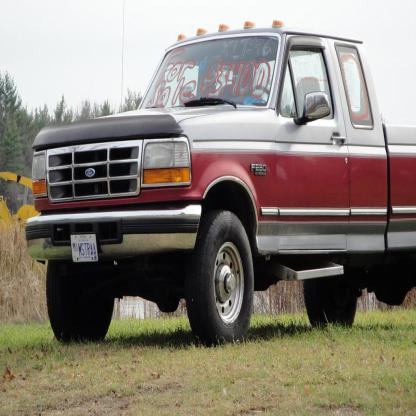Truck: (25, 20, 415, 346)
